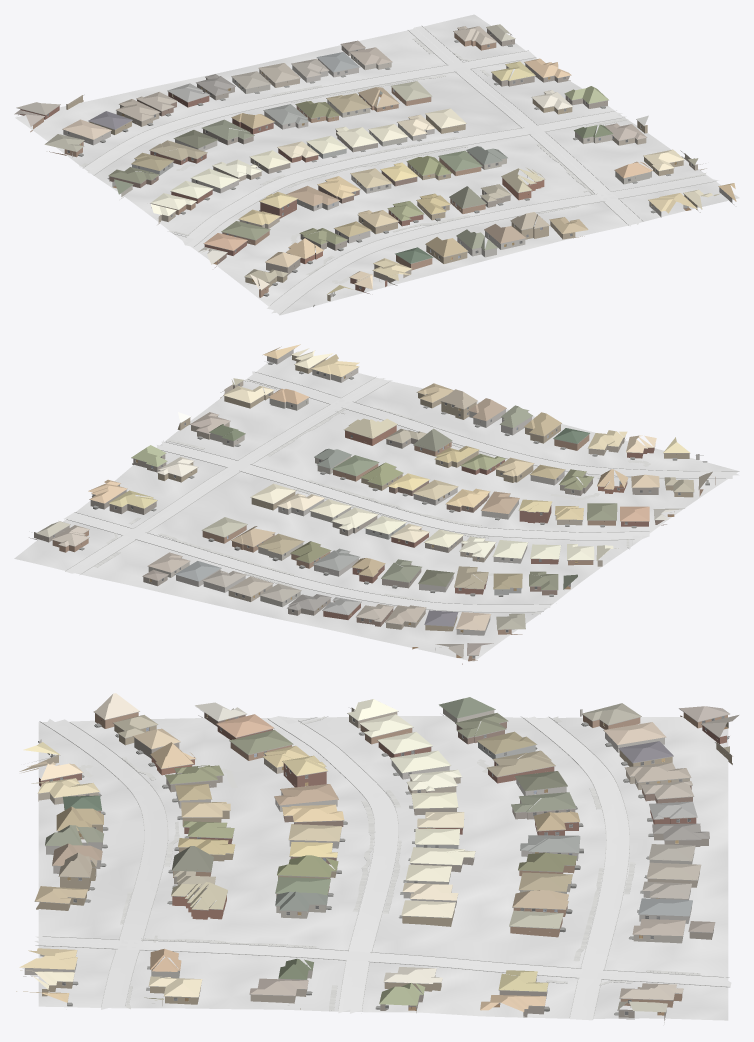
The picture shows the model from 3 angles, top to bottom: view 1: azimuth 30°, elevation 25°; view 2: azimuth 150°, elevation 25°; view 3: azimuth 270°, elevation 25°; orthographic projection. The views are drawn at different scales.
Parts seen in each view (by area): view 1: ground, roof, concrete, wall, detail, curb, asphalt, wall_stone, walk, wall_stucco, glass; view 2: ground, roof, concrete, wall, detail, asphalt, curb, wall_stone, walk, wall_stucco, glass; view 3: ground, roof, concrete, wall, asphalt, detail, walk, curb, wall_stucco, wall_stone, glass.
Part boxes in pixels (bbox=[...]): ground: bbox=[15, 14, 739, 315]; roof: bbox=[14, 24, 736, 294]; concrete: bbox=[83, 51, 718, 313]; wall: bbox=[19, 29, 706, 301]; detail: bbox=[16, 27, 733, 306]; curb: bbox=[82, 26, 716, 314]; asphalt: bbox=[410, 26, 641, 226]; wall_stone: bbox=[63, 59, 733, 257]; walk: bbox=[79, 38, 706, 283]; wall_stucco: bbox=[121, 54, 661, 228]; glass: bbox=[47, 32, 692, 288]; ground: bbox=[14, 356, 738, 661]; roof: bbox=[36, 344, 715, 658]; concrete: bbox=[64, 371, 739, 611]; wall: bbox=[29, 355, 715, 664]; detail: bbox=[36, 351, 709, 658]; asphalt: bbox=[65, 378, 391, 573]; curb: bbox=[65, 372, 739, 614]; wall_stone: bbox=[176, 348, 699, 635]; walk: bbox=[94, 379, 650, 614]; wall_stucco: bbox=[148, 368, 582, 607]; glass: bbox=[53, 366, 680, 658]; ground: bbox=[38, 716, 728, 1020]; roof: bbox=[16, 693, 738, 1012]; concrete: bbox=[46, 716, 629, 1020]; wall: bbox=[19, 707, 732, 1022]; asphalt: bbox=[34, 936, 731, 986]; detail: bbox=[23, 708, 731, 1015]; walk: bbox=[78, 716, 700, 1010]; curb: bbox=[35, 716, 729, 1019]; wall_stucco: bbox=[23, 708, 694, 980]; wall_stone: bbox=[39, 709, 691, 1005]; glass: bbox=[49, 716, 729, 1014].
Bounding box in the file's own units: 263 × 16.9 × 263.
